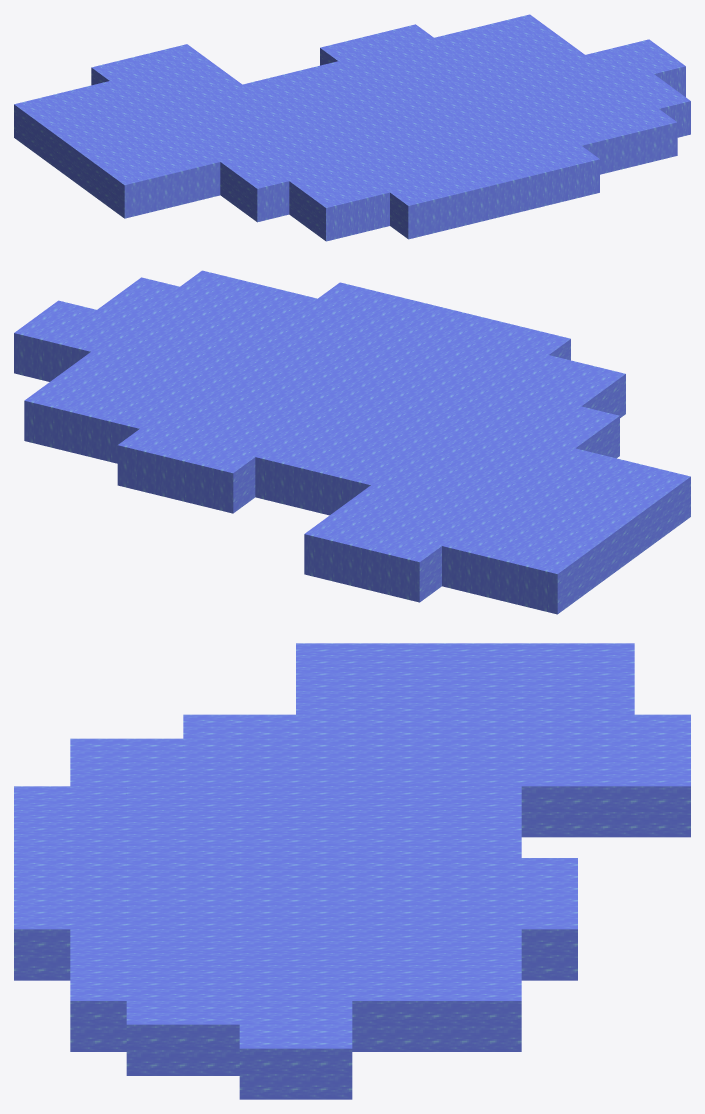
The model's file is rio3.fbx.
3 views of the same model, one above another, from view 1: azimuth 30°, elevation 25°; view 2: azimuth 150°, elevation 25°; view 3: azimuth 270°, elevation 25° (orthographic). The views are drawn at different scales.
Visible parts, largest first — view 1: Cube; view 2: Cube; view 3: Cube.
Boxes of the visible parts, left/top/right/bottom form: Cube: left=14, top=14, right=690, bottom=241; Cube: left=14, top=270, right=690, bottom=614; Cube: left=14, top=643, right=690, bottom=1099.
Size of the model in its own units: 1700 by 100 by 1200.
